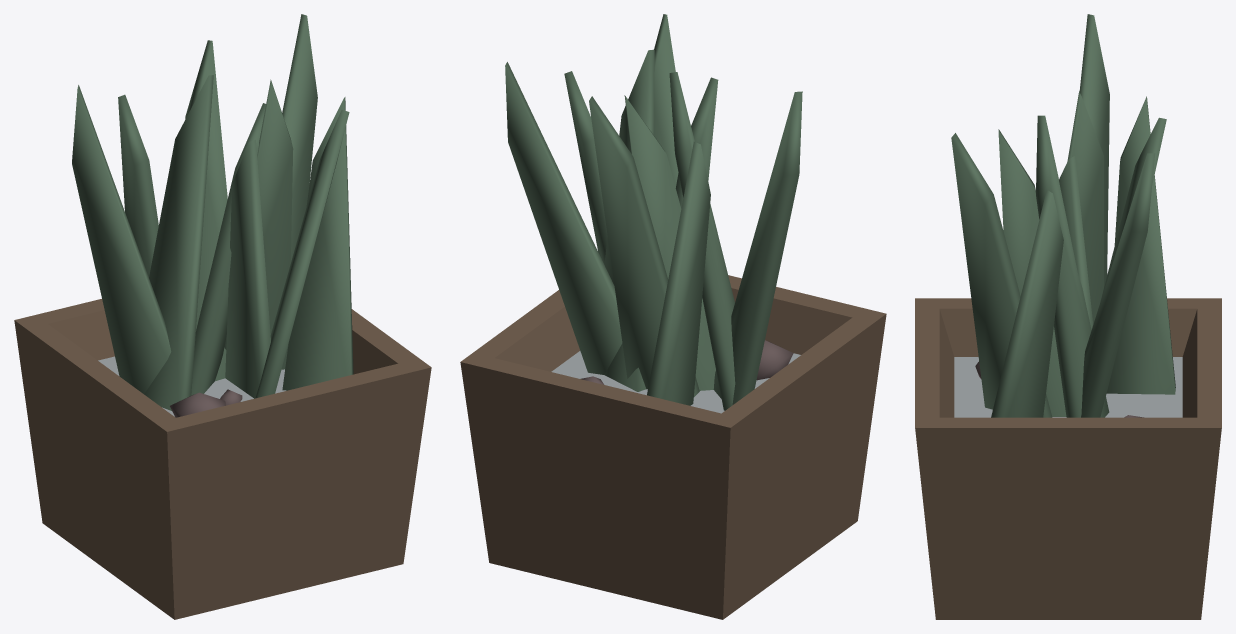
The model's file is veg2.fbx.
3 renders of one model, left to right at view 1: azimuth 30°, elevation 25°; view 2: azimuth 150°, elevation 25°; view 3: azimuth 270°, elevation 25°, orthographic. The views are drawn at different scales.
Parts seen in each view (by area): view 1: Cube.005; view 2: Cube.005; view 3: Cube.005.
Boxes of the visible parts, box(x1,y1,x2,y2) form: Cube.005: box(14, 14, 431, 619); Cube.005: box(460, 14, 886, 619); Cube.005: box(915, 14, 1221, 619).
Bounding box in the file's own units: 13.26 × 22.66 × 13.01.
